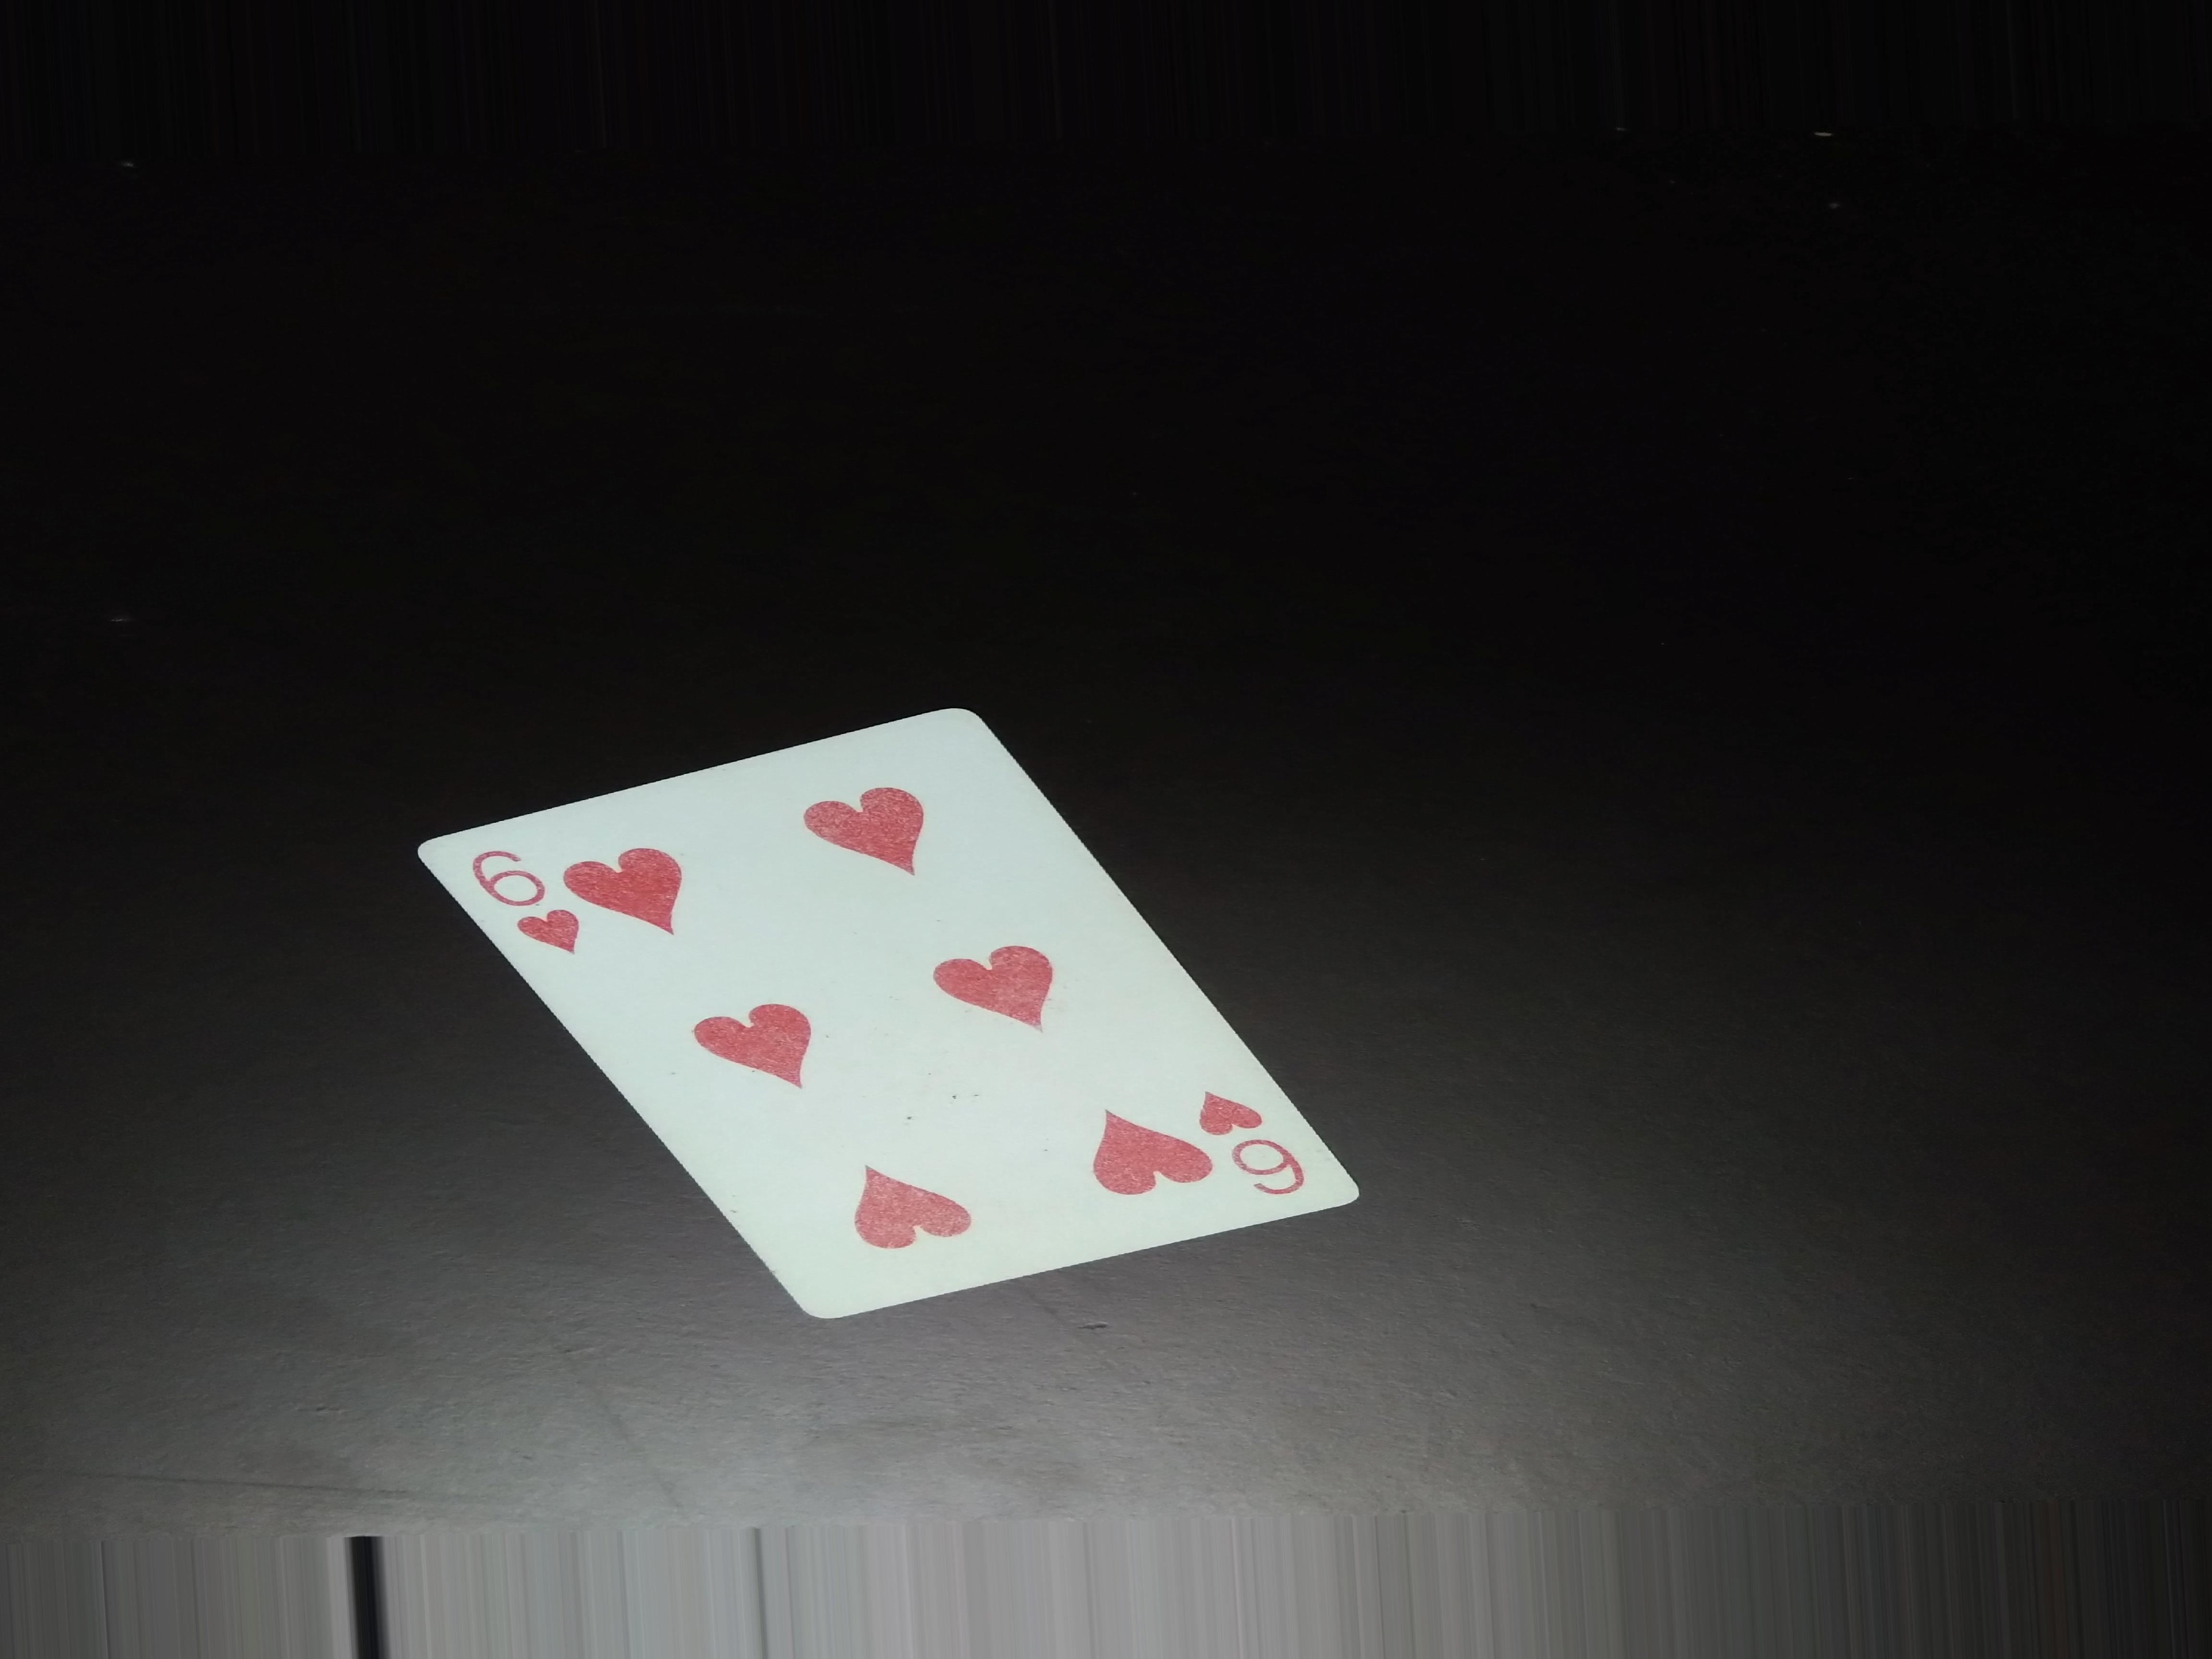6H: (463, 838, 583, 964)
